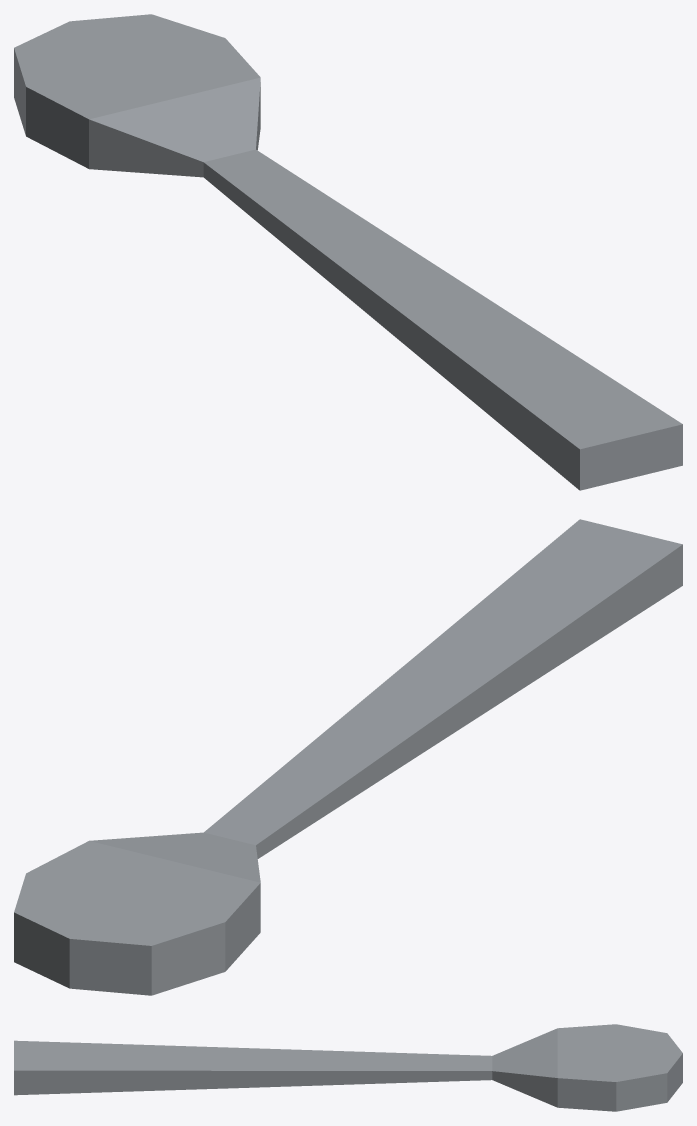
File: Spoon_3.fbx
3 renders of one model, top to bottom at view 1: azimuth 30°, elevation 25°; view 2: azimuth 150°, elevation 25°; view 3: azimuth 270°, elevation 25°, orthographic. The views are drawn at different scales.
Visible parts, largest first — view 1: pCube560; view 2: pCube560; view 3: pCube560.
Boxes of the visible parts, left/top/right/bottom form: pCube560: left=14, top=14, right=682, bottom=490; pCube560: left=14, top=519, right=682, bottom=995; pCube560: left=14, top=1024, right=682, bottom=1111.
Bounding box in the file's own units: 0.0504 × 0.012 × 0.2461.
1 material, 1 textured.
